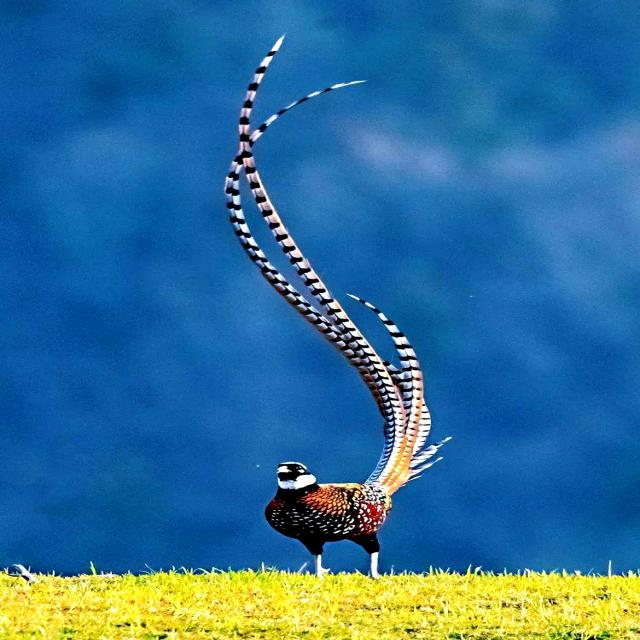Reeves-s Pheasant: (226, 34, 452, 496)
